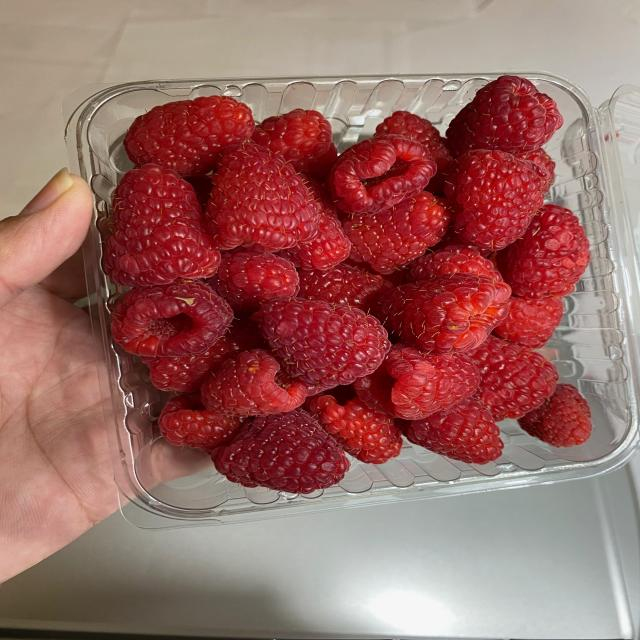raspberries: (116, 86, 592, 497)
